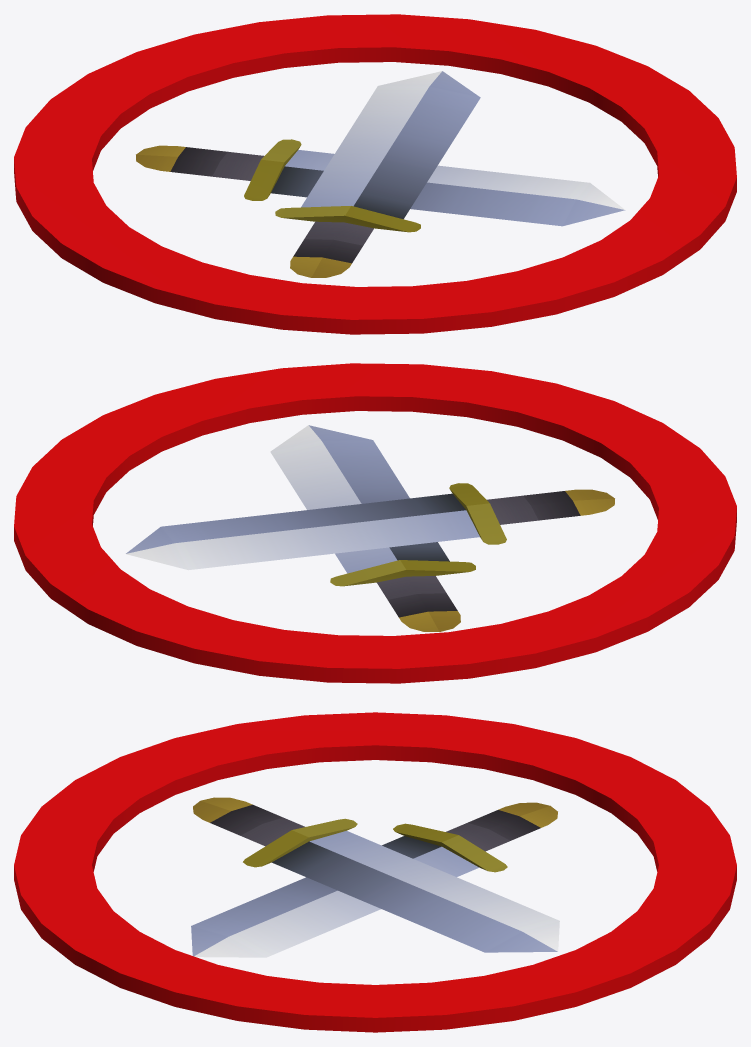
Rendered from Attack Point.fbx.
3 renders of one model, top to bottom at view 1: azimuth 30°, elevation 25°; view 2: azimuth 150°, elevation 25°; view 3: azimuth 270°, elevation 25°, orthographic.
Parts seen in each view (by area): view 1: Attack Point; view 2: Attack Point; view 3: Attack Point.
Boxes of the visible parts, left/top/right/bottom form: Attack Point: left=14, top=14, right=736, bottom=334; Attack Point: left=14, top=363, right=736, bottom=683; Attack Point: left=14, top=712, right=736, bottom=1032.
Bounding box in the file's own units: 693 × 15.5 × 693.
